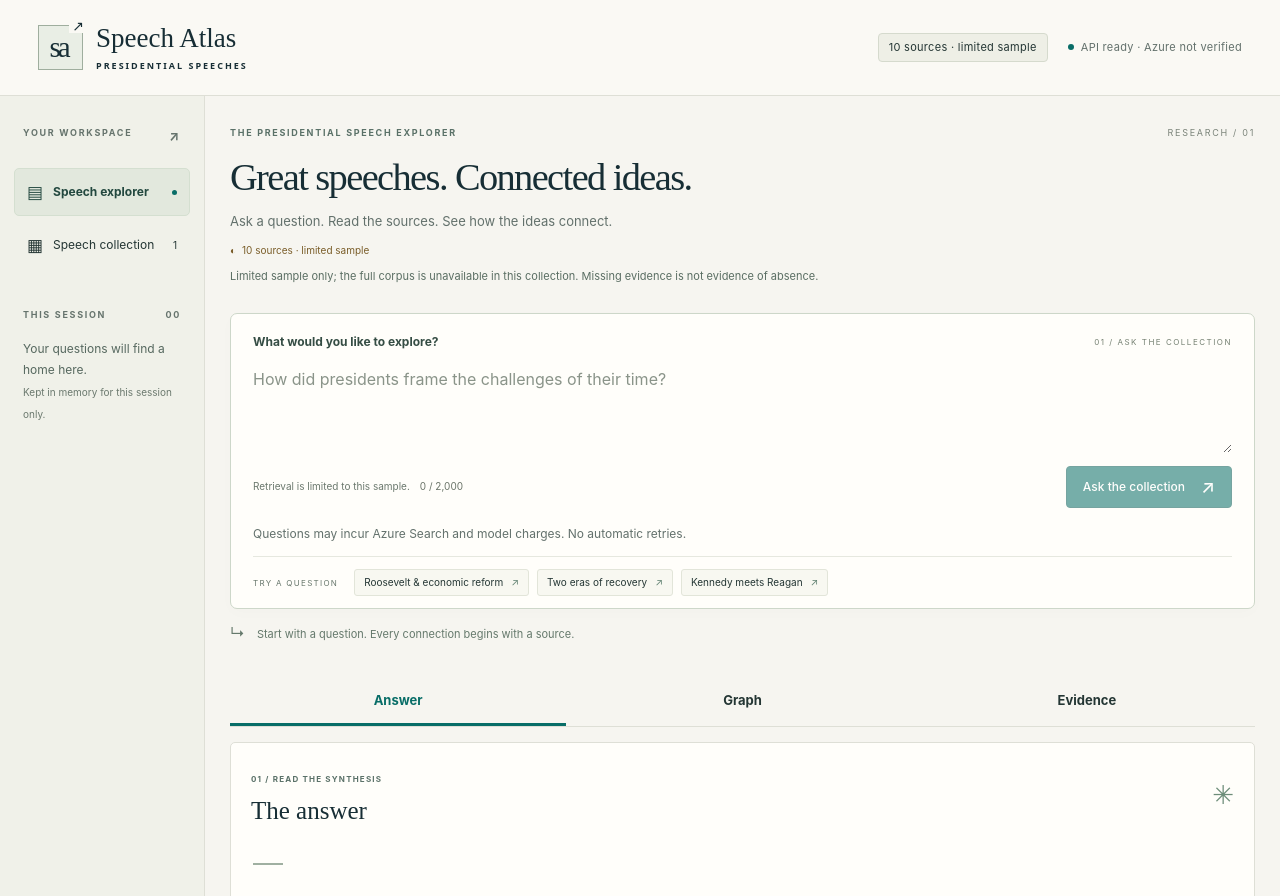
it: research workspace › starts empty; readiness is not cloud connectivity; suggestions fill only
Expected: the text "API ready · Azure not verified" is shown, [1068,39,1242,56]
Click the tab "Graph".
click(742, 701)  # box [574,677,911,726]
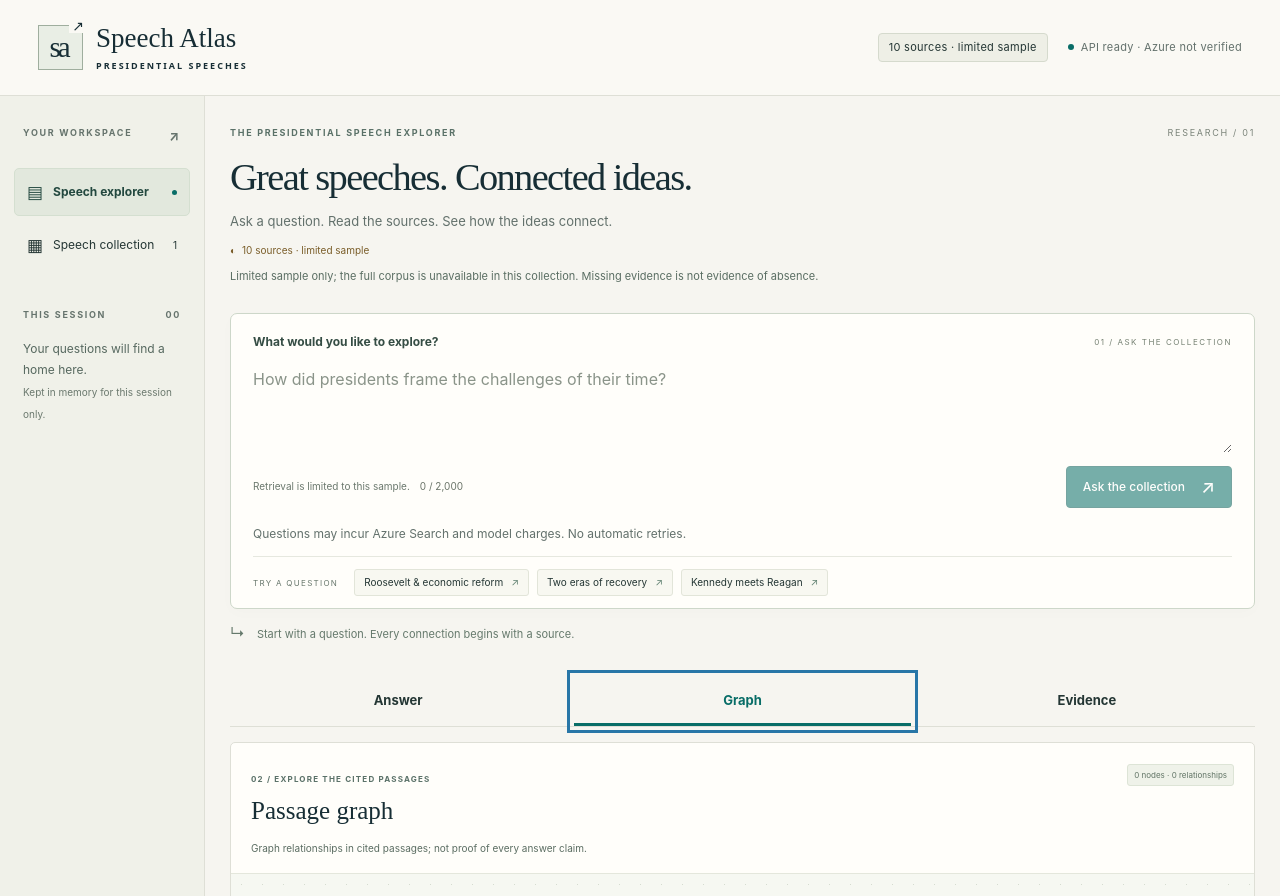
Click the button "Roosevelt & economic reform ↗".
click(442, 583)  # box [354,569,529,596]
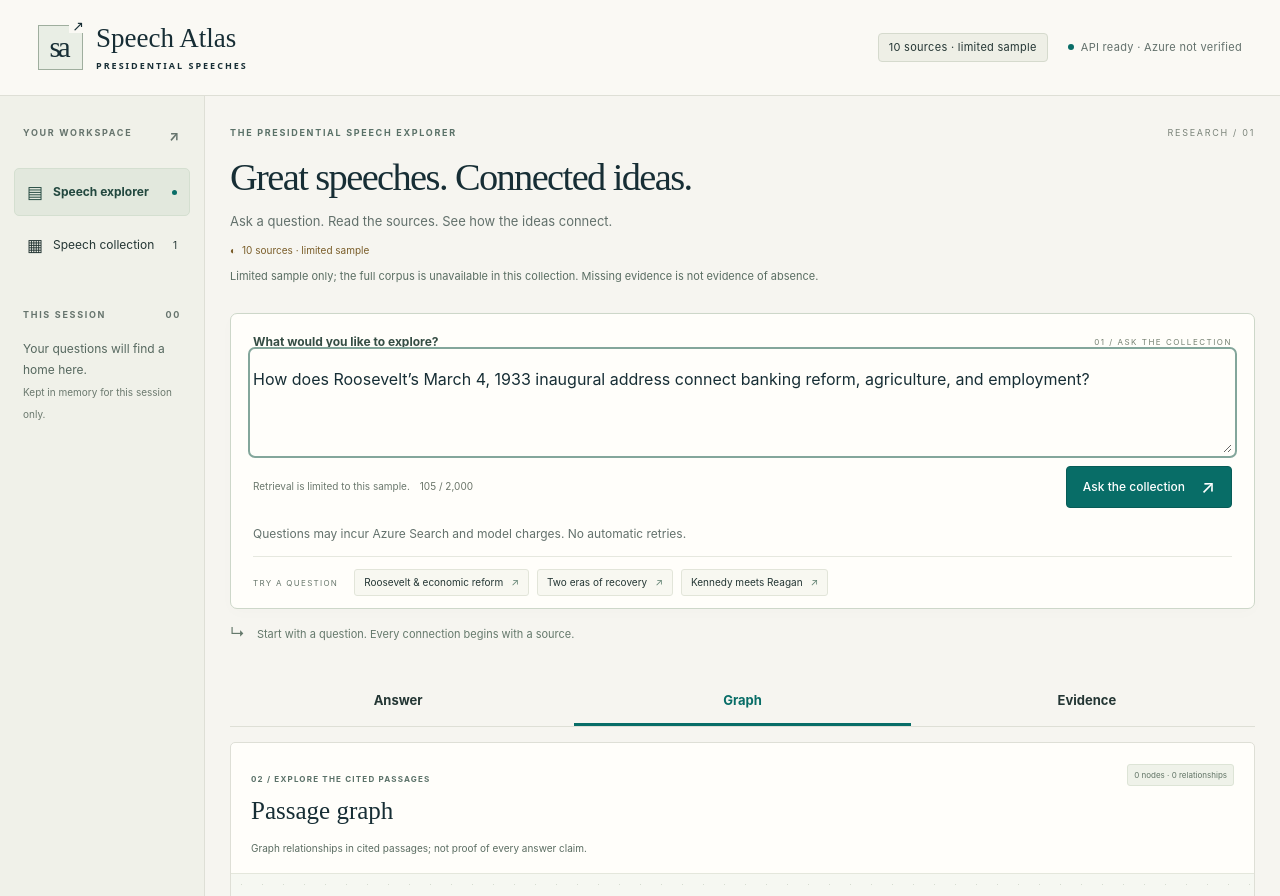
Expected: the text box holds "How does Roosevelt’s March 4, 1933 inaugural address connect banking reform, agriculture, and employment?", [253,352,1232,453]
